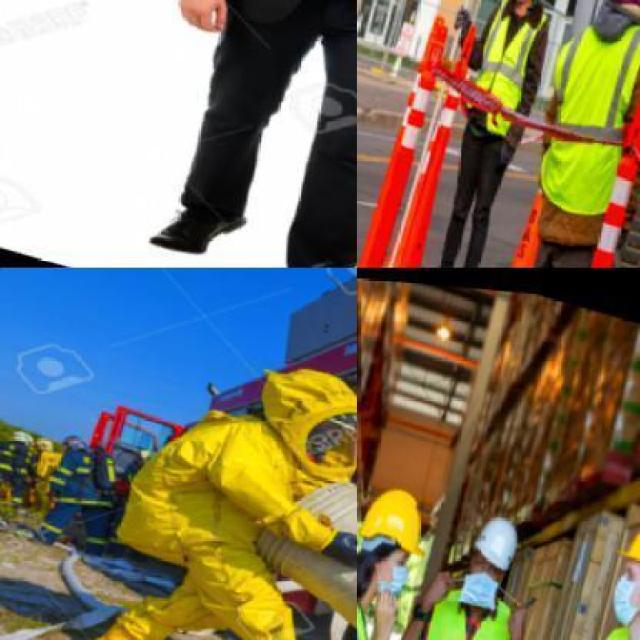Vest: (111, 383, 311, 629), (523, 0, 639, 225), (460, 0, 554, 145), (399, 576, 526, 638)
